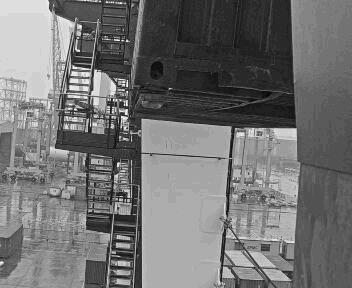twist_lock_1: (137, 173, 188, 207)
